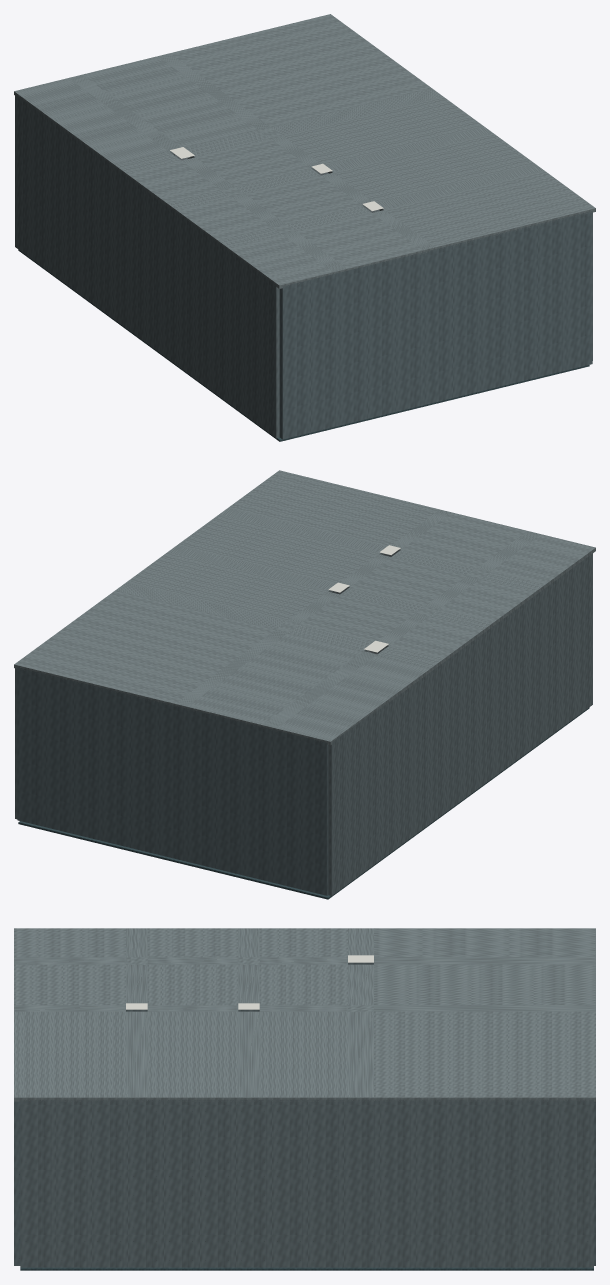
Rendered from reservoir.glb.
The picture shows the model from 3 angles, top to bottom: view 1: azimuth 30°, elevation 25°; view 2: azimuth 150°, elevation 25°; view 3: azimuth 270°, elevation 25°; orthographic projection. The views are drawn at different scales.
Visible parts, largest first — view 1: HallShell; view 2: HallShell; view 3: HallShell, CeilingDaylight.
Boxes of the visible parts, left/top/right/bottom form: HallShell: left=14, top=14, right=595, bottom=441; HallShell: left=14, top=470, right=595, bottom=899; HallShell: left=14, top=928, right=595, bottom=1270; CeilingDaylight: left=126, top=955, right=373, bottom=1009.
Bounding box in the file's own units: 186 × 90.53 × 270.
6 materials, 2 textured.
